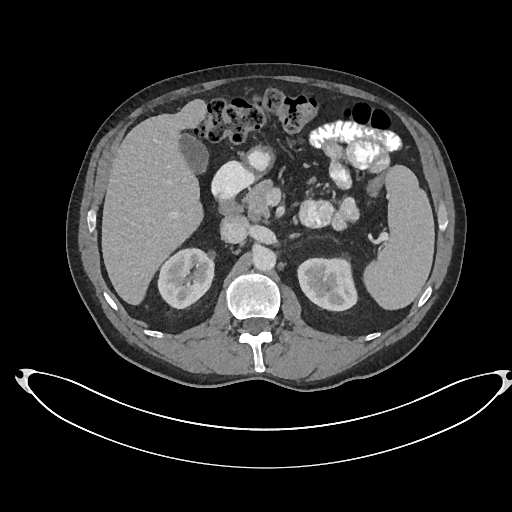Lesion: (204, 247, 218, 262)
